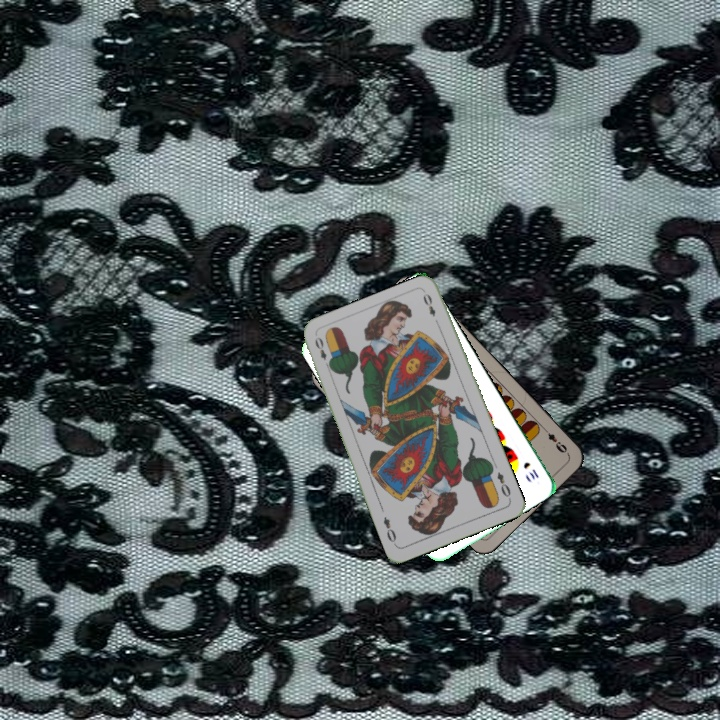E9: (539, 424, 571, 456)
EO: (311, 333, 333, 372), (493, 468, 514, 502)
S10: (519, 458, 541, 482)
